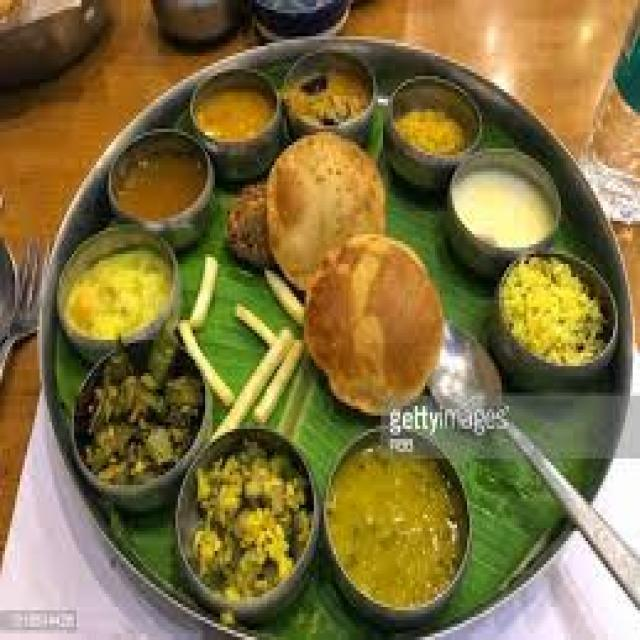curd: (244, 0, 356, 26)
dal: (324, 440, 467, 607), (486, 243, 620, 392), (58, 235, 180, 346), (444, 147, 565, 256), (387, 83, 480, 167), (186, 72, 280, 148)
papad: (290, 174, 452, 408), (258, 133, 388, 278)
sambar-rasam: (108, 122, 210, 228), (246, 0, 351, 32)
veg-fry: (175, 436, 322, 601)
